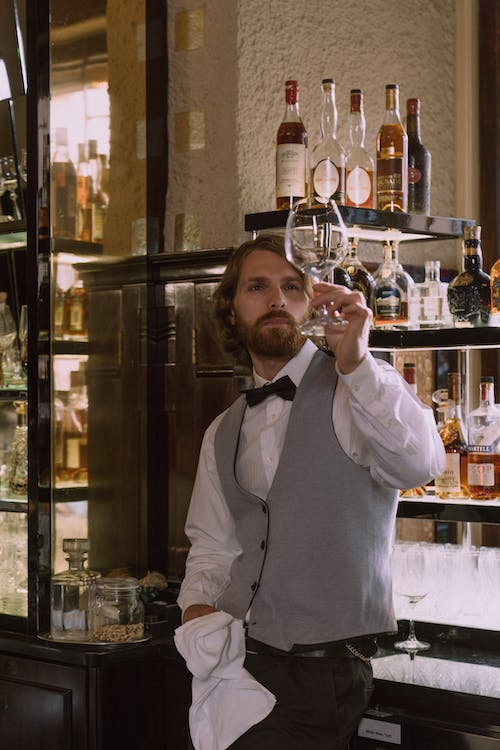alcohol: (272, 77, 309, 210), (433, 371, 471, 500), (310, 77, 348, 205), (463, 372, 500, 503), (448, 224, 494, 326), (376, 81, 409, 213), (370, 240, 416, 331), (346, 86, 375, 207), (408, 259, 455, 330), (335, 226, 375, 309), (405, 96, 432, 215)
